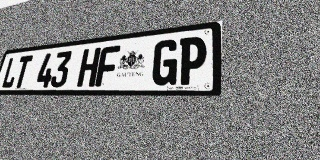3: (49, 51, 72, 87)
4: (35, 52, 57, 88)
F: (95, 45, 120, 87)
G: (151, 39, 179, 86)
H: (76, 47, 101, 87)
L: (1, 56, 21, 88)
P: (177, 35, 207, 85)
T: (12, 55, 33, 88)
